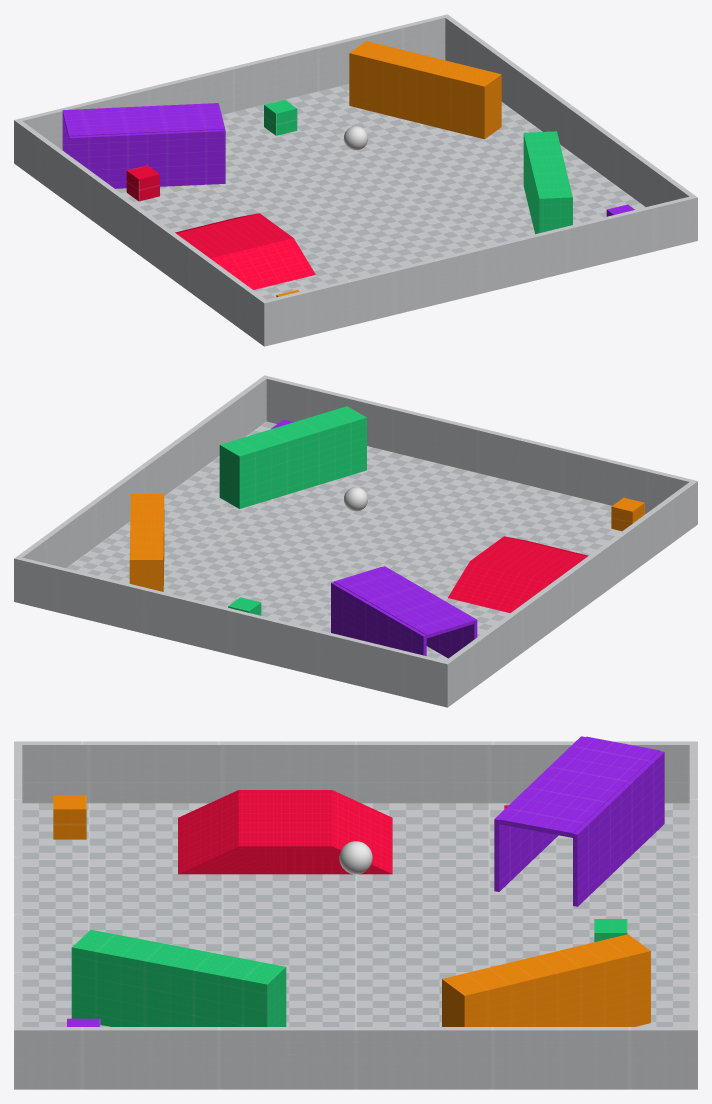
File: KenneyPlayground.glb
The picture shows the model from 3 angles, top to bottom: view 1: azimuth 30°, elevation 25°; view 2: azimuth 150°, elevation 25°; view 3: azimuth 270°, elevation 25°; orthographic projection. The views are drawn at different scales.
Visible parts, largest first — view 1: Walls, Ground, MiniWallYellow, MiniWallPurple.001, Ramp, MiniWallGreen, MiniWallPurple.002, Ramp1, CubeRed2, CubeGreen; view 2: Walls, Ground, MiniWallGreen, Ramp1, MiniWallPurple.002, MiniWallPurple, MiniWallYellow, Ramp, MiniWallPurple.001, CubeYellow; view 3: Ground, Walls, MiniWallGreen, MiniWallYellow, Ramp, MiniWallPurple.002, Ramp1, MiniWallPurple, MiniWallPurple.001, CubeYellow, Sphere, CubeGreen.
Part boxes in pixels (left/top/right/bottom): Walls: left=14, top=14, right=697, bottom=346; Ground: left=115, top=84, right=645, bottom=299; MiniWallYellow: left=349, top=41, right=501, bottom=139; MiniWallPurple.001: left=69, top=129, right=225, bottom=188; Ramp: left=193, top=225, right=315, bottom=289; MiniWallGreen: left=523, top=131, right=572, bottom=234; MiniWallPurple.002: left=63, top=104, right=225, bottom=138; Ramp1: left=175, top=213, right=276, bottom=245; CubeRed2: left=126, top=165, right=159, bottom=201; CubeGreen: left=264, top=99, right=297, bottom=135; Walls: left=14, top=375, right=697, bottom=707; Ground: left=66, top=421, right=645, bottom=660; MiniWallGreen: left=219, top=406, right=366, bottom=508; Ramp1: left=448, top=549, right=569, bottom=612; MiniWallPurple.002: left=334, top=567, right=473, bottom=638; MiniWallPurple: left=331, top=582, right=426, bottom=655; MiniWallYellow: left=129, top=493, right=164, bottom=591; Ramp: left=487, top=536, right=588, bottom=568; MiniWallPurple.001: left=382, top=566, right=477, bottom=658; CubeYellow: left=611, top=497, right=644, bottom=531; Ground: left=22, top=803, right=689, bottom=1026; Walls: left=14, top=741, right=697, bottom=1089; MiniWallGreen: left=71, top=929, right=286, bottom=1026; MiniWallYellow: left=442, top=934, right=650, bottom=1026; Ramp: left=178, top=790, right=285, bottom=874; MiniWallPurple.002: left=499, top=736, right=659, bottom=837; Ramp1: left=285, top=790, right=392, bottom=874; MiniWallPurple: left=573, top=751, right=664, bottom=906; MiniWallPurple.001: left=494, top=736, right=585, bottom=891; CubeYellow: left=53, top=795, right=86, bottom=839; Sphere: left=339, top=841, right=372, bottom=874; CubeGreen: left=594, top=919, right=627, bottom=942.
Bounding box in the file's own units: 41 × 6.92 × 41.
7 materials, 6 textured.
